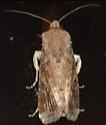army worm adult: (15, 4, 102, 125)
